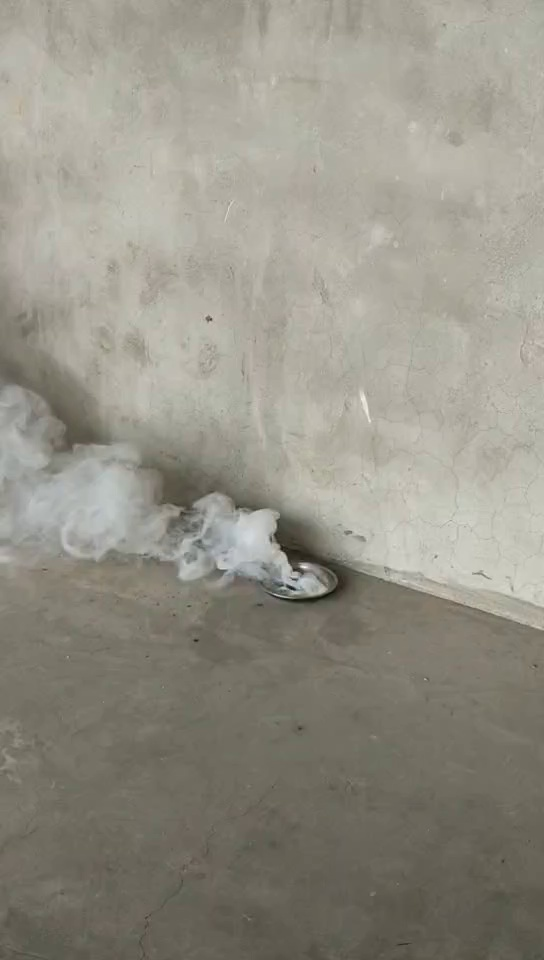yanwu: (5, 390, 288, 585)
